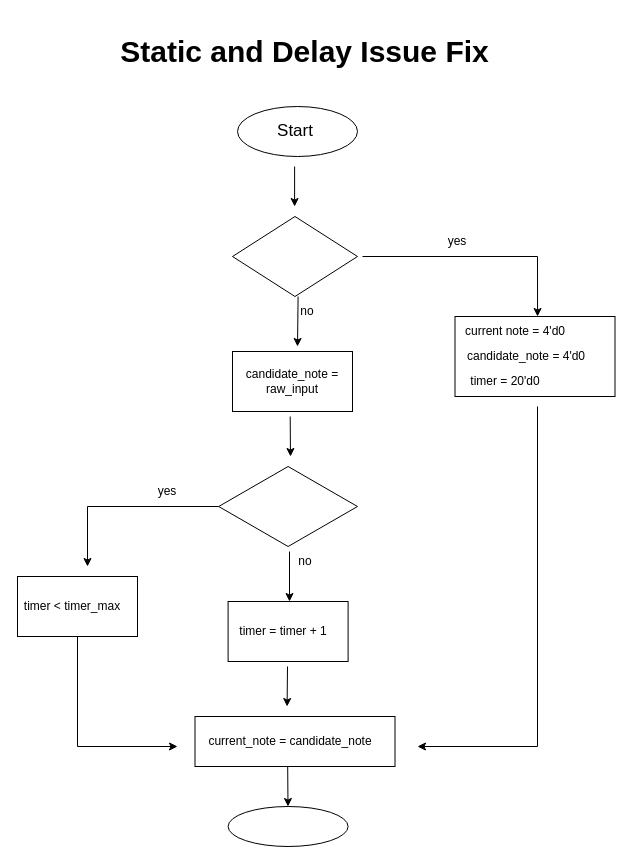
This 633x864 diagram has some shape labels left out. The centre of each missing label's shape, as x and y in pixels:
"current_note = raw_input?" goes at [288,506].
"End" goes at [287,826].
"ICE_PB is 0?" goes at [295,256].
